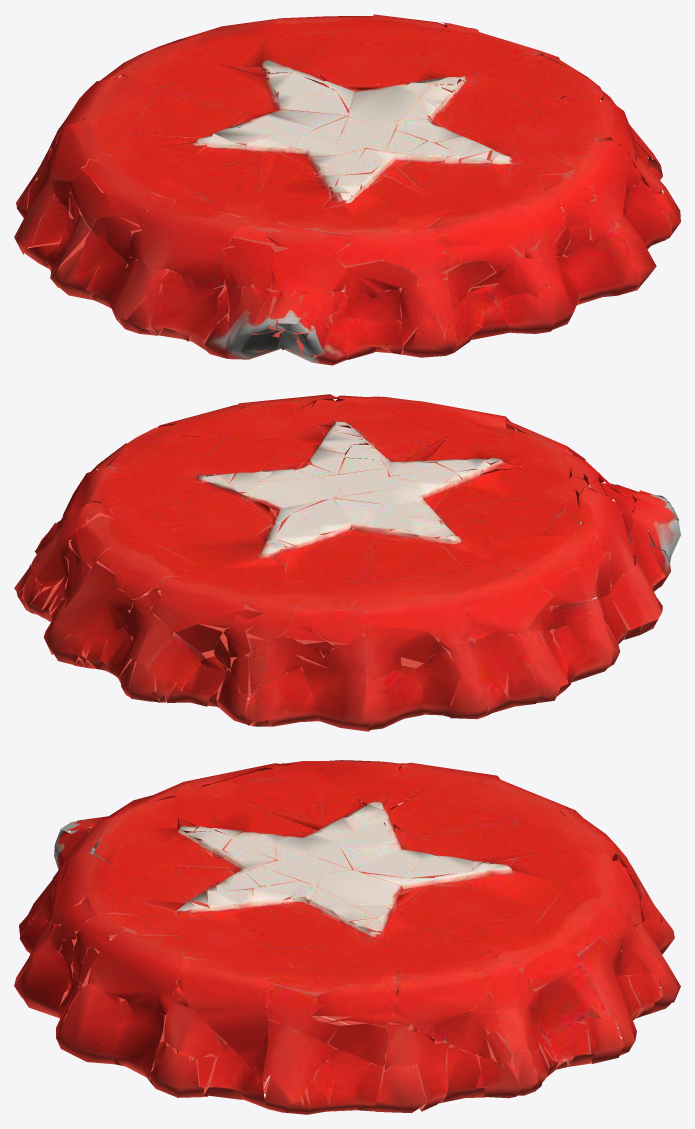
Rendered from bottle_cap.glb.
3 views of the same model, one above another, from view 1: azimuth 30°, elevation 25°; view 2: azimuth 150°, elevation 25°; view 3: azimuth 270°, elevation 25° (orthographic). The views are drawn at different scales.
Visible parts, largest first — view 1: bottle_cap; view 2: bottle_cap; view 3: bottle_cap.
Part boxes in pixels (<box>): bottle_cap: <box>14,14,680,365</box>; bottle_cap: <box>14,394,680,731</box>; bottle_cap: <box>14,760,680,1114</box>.
Size of the model in its own units: 0.032 by 0.00579 by 0.0317.
1 material, 1 textured.
